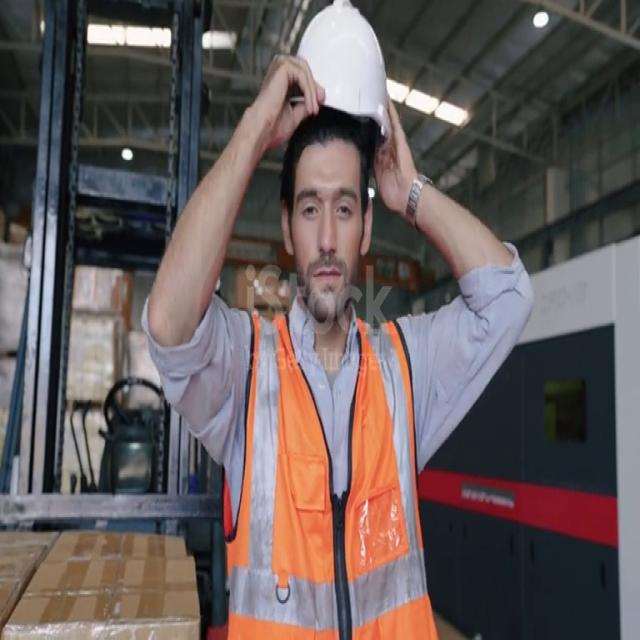capacete: (283, 0, 405, 184)
